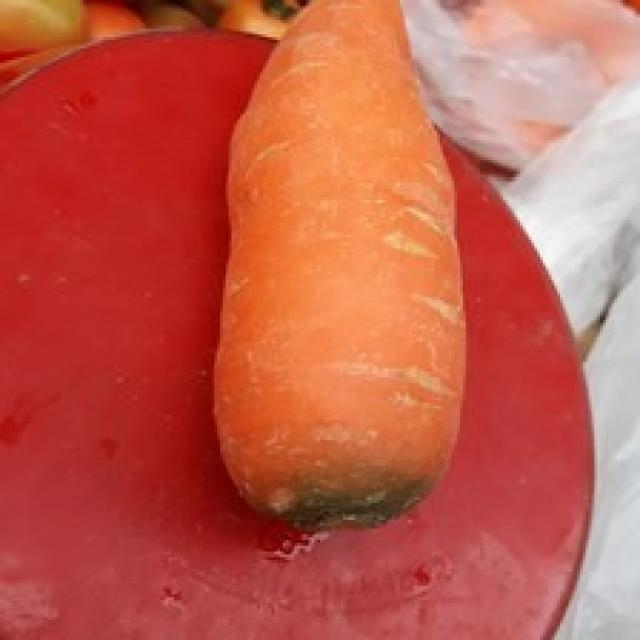carrot: (218, 0, 469, 526)
